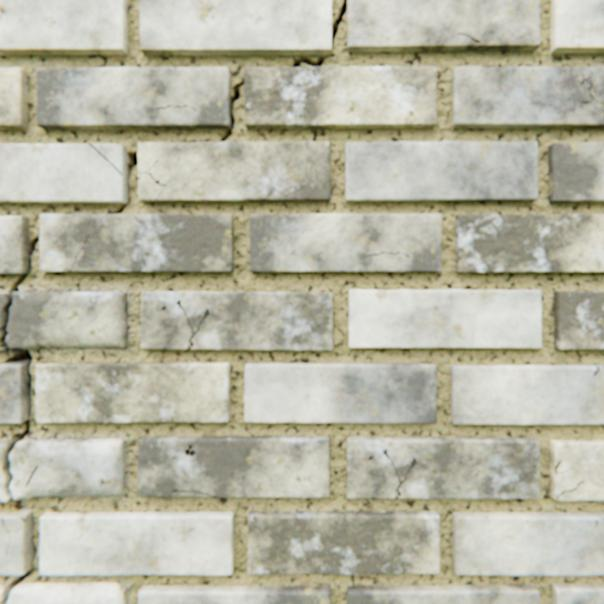brick: (41, 510, 234, 574), (248, 510, 439, 573), (38, 68, 231, 130), (346, 436, 538, 498), (244, 67, 435, 129), (138, 435, 329, 496), (37, 362, 230, 422), (345, 142, 536, 202), (139, 142, 330, 202), (245, 362, 435, 422), (141, 291, 332, 350), (41, 214, 234, 272), (348, 289, 540, 347), (250, 214, 440, 272), (141, 0, 331, 56), (347, 0, 539, 53), (452, 511, 603, 574), (451, 68, 603, 129), (449, 364, 603, 424), (455, 214, 603, 272), (0, 144, 127, 204), (0, 0, 128, 56), (347, 583, 538, 603), (139, 584, 330, 603), (548, 439, 603, 500), (547, 143, 603, 202), (552, 291, 603, 349), (549, 0, 603, 54), (0, 511, 33, 574), (0, 69, 29, 130), (0, 363, 29, 422), (0, 217, 30, 274), (551, 582, 603, 603)
broken_brick: (0, 292, 128, 350), (11, 438, 125, 499), (8, 581, 126, 603), (0, 440, 14, 501), (0, 294, 10, 338), (0, 584, 8, 603)
crack: (5, 348, 34, 499), (0, 273, 29, 348), (113, 151, 138, 214), (220, 79, 244, 142), (16, 499, 38, 561), (90, 144, 123, 175), (2, 568, 31, 603), (185, 307, 209, 349), (139, 171, 170, 195), (331, 0, 346, 49), (555, 480, 583, 499), (393, 469, 409, 498), (292, 56, 327, 68), (31, 229, 41, 271), (172, 489, 217, 496), (26, 464, 39, 486), (576, 77, 590, 95), (383, 447, 394, 467), (456, 34, 479, 43), (580, 97, 600, 104), (554, 459, 562, 473), (77, 245, 85, 259), (186, 444, 196, 455), (370, 252, 399, 255), (177, 299, 184, 310), (154, 106, 173, 110), (409, 455, 415, 467), (591, 366, 598, 375), (180, 140, 196, 143), (2, 516, 6, 527), (175, 106, 187, 108)
